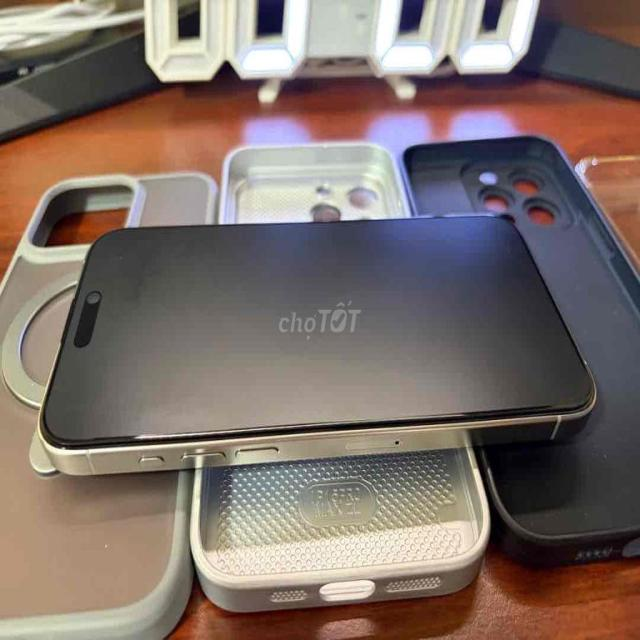gen_15: (36, 212, 603, 490)
